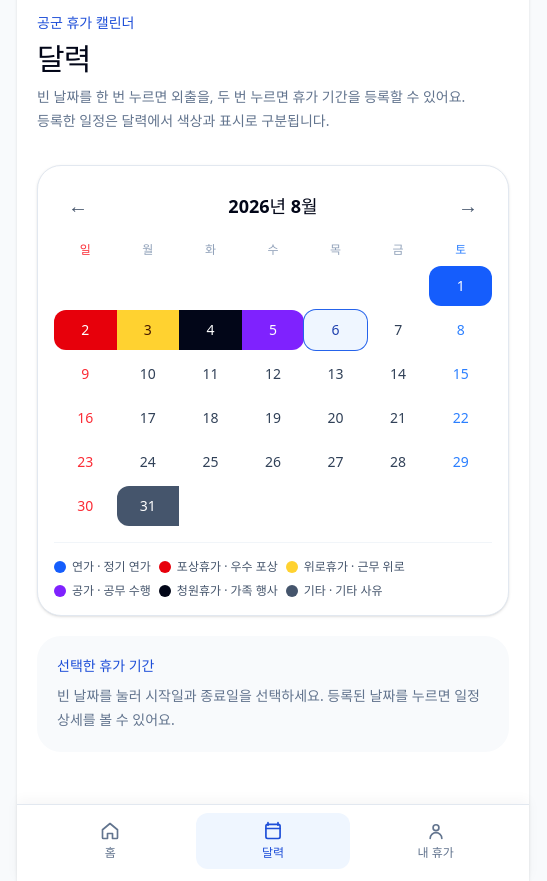
Test: 월간 달력 › 표시 월에 겹치는 사용 기록만 범례에 표시하고 확정된 종류별 색상을 적용한다
Expected: the text "기타 · 기타 사유" is shown, x1=304 y1=583 x2=383 y2=599
Expected: the text "성과제 · 성과 보상" is not shown
Click the button named "다음 달" at (468, 206), box x1=444 y1=182 x2=492 y2=230
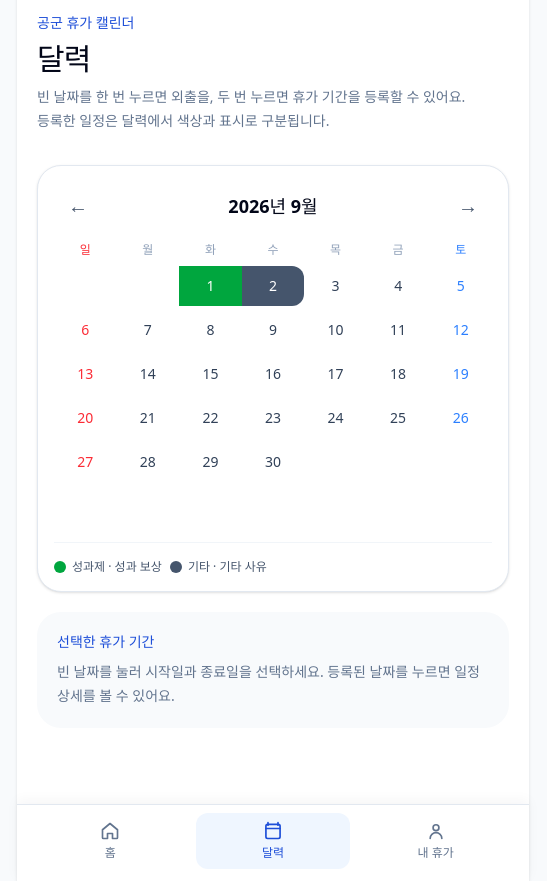
Expected: the text "기타 · 기타 사유" is shown, x1=188 y1=559 x2=267 y2=575
Expected: the text "성과제 · 성과 보상" is shown, x1=72 y1=559 x2=162 y2=575
Expected: the text "연가 · 정기 연가" is gone
